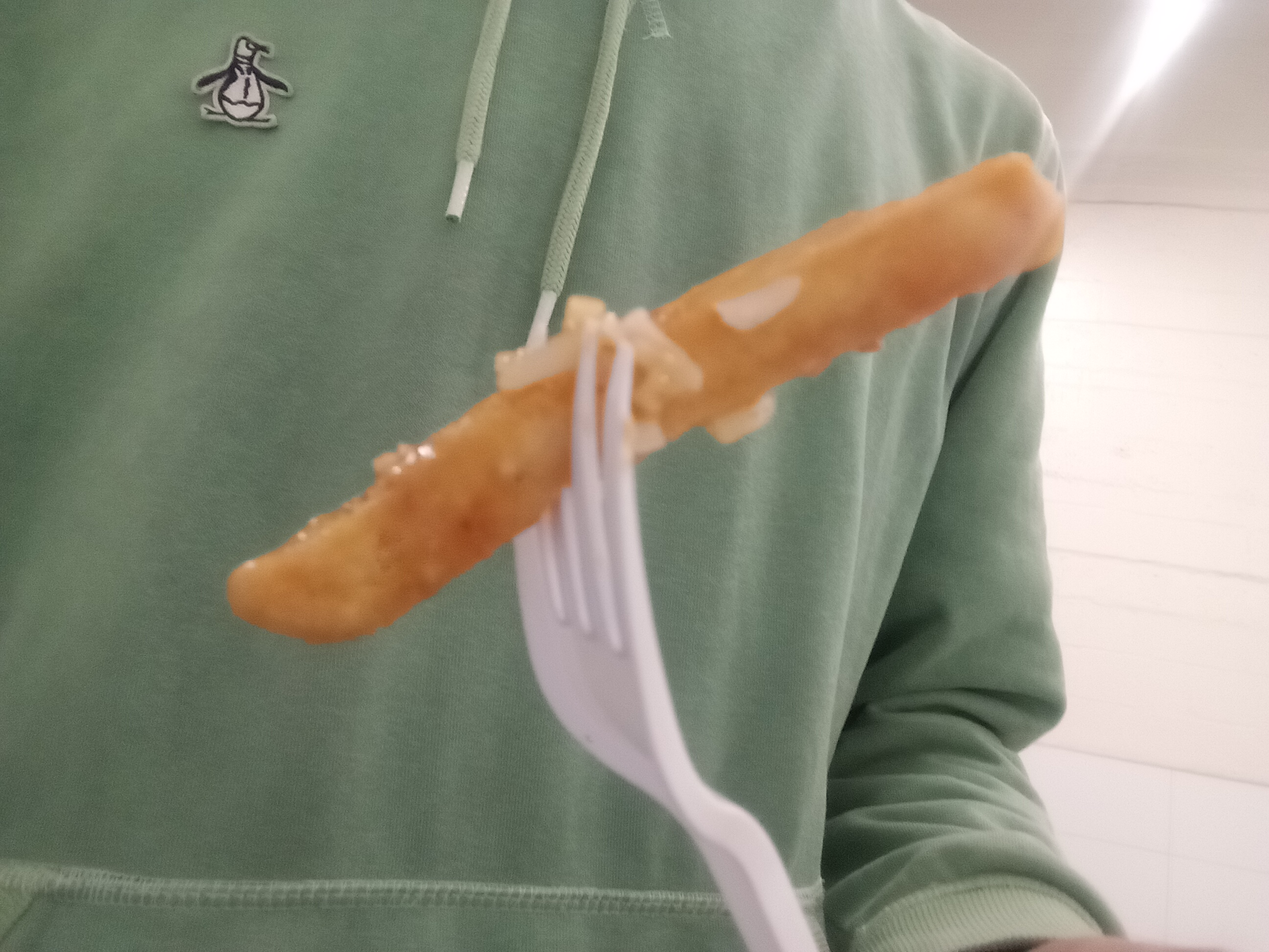Organico: (224, 151, 1065, 645)
